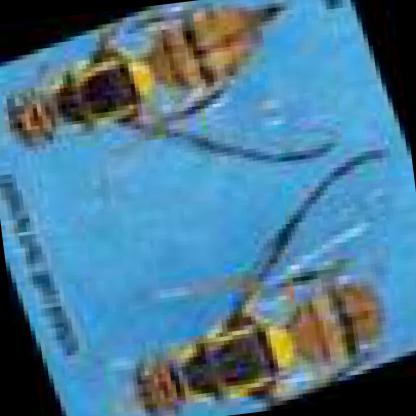fruit fly: (129, 149, 405, 416), (9, 6, 324, 159)
